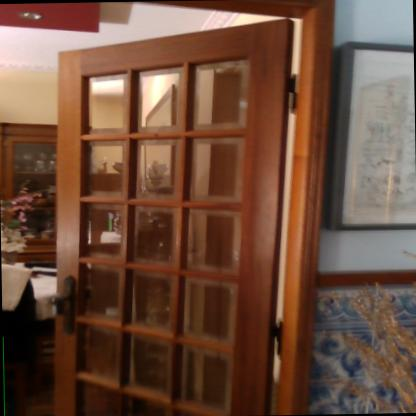semi: (0, 0, 336, 416)
